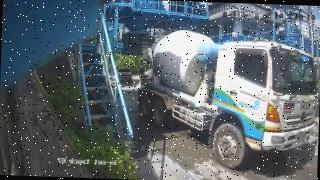cement_mixer_truck: (138, 30, 320, 167)
